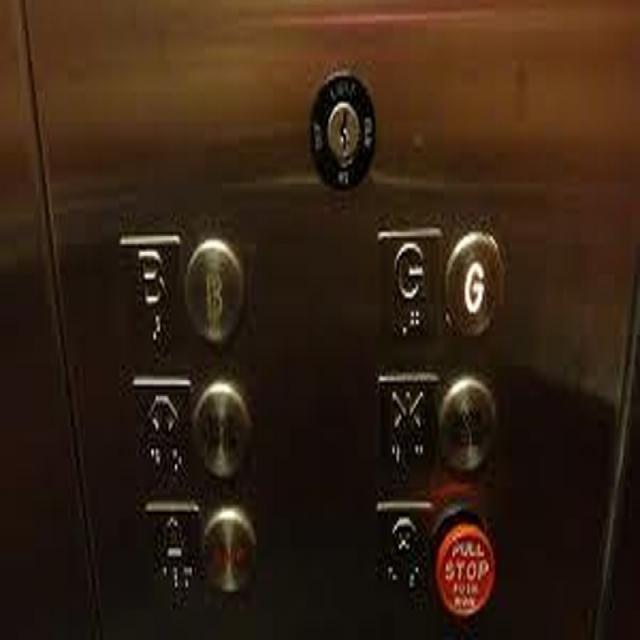B: (115, 232, 185, 348), (185, 239, 244, 345)
G: (375, 224, 443, 341), (445, 224, 507, 345)
alarm: (139, 499, 202, 608)
blur: (437, 370, 497, 478), (194, 376, 252, 483), (200, 500, 257, 596)
close: (374, 368, 438, 477)
keyhole: (308, 68, 376, 195)
open: (126, 372, 194, 480)
stop: (375, 499, 434, 600)
text_stop: (436, 508, 496, 620)
